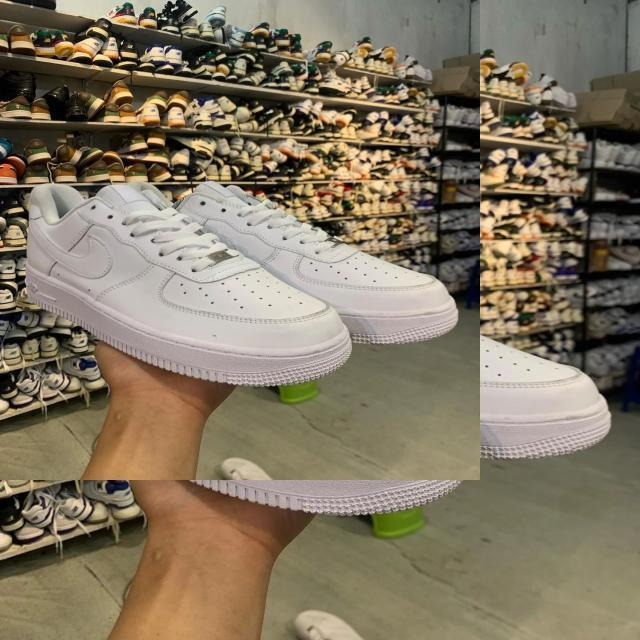nike fake air force: (14, 177, 353, 386), (113, 177, 460, 350)
